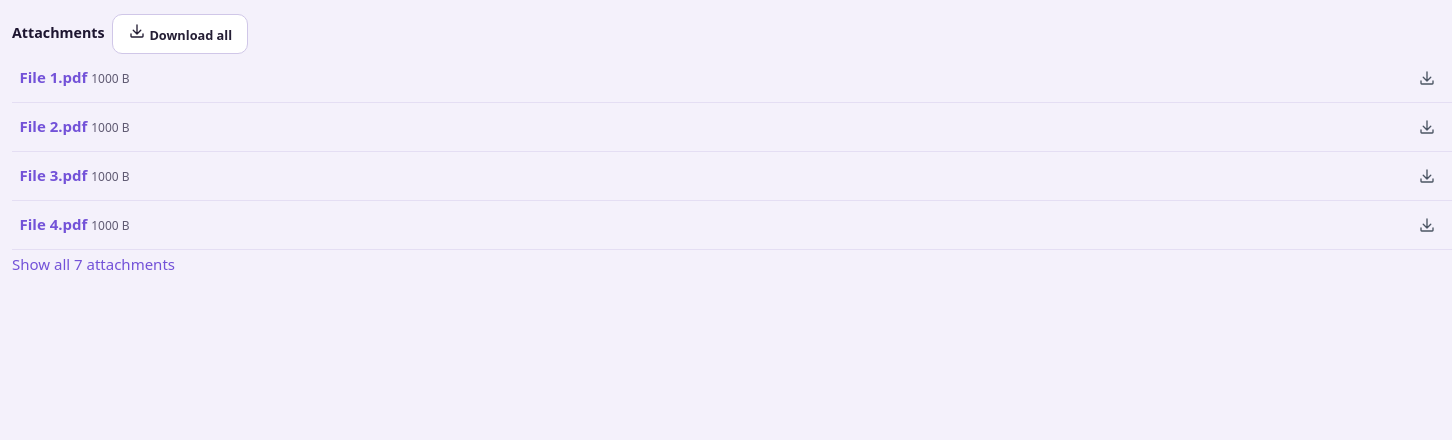
shows the first 4 of many attachments, and all of them on Show all
Expected: the text "File 1.pdf" is shown, left=20, top=67, right=87, bottom=87
Expected: the number of list items is 4, left=12, top=54, right=1451, bottom=102; left=12, top=102, right=1451, bottom=152; left=12, top=152, right=1451, bottom=200; left=12, top=200, right=1451, bottom=250
Click the button "Show all 7 attachments".
click(94, 265)  # box left=12, top=253, right=175, bottom=277
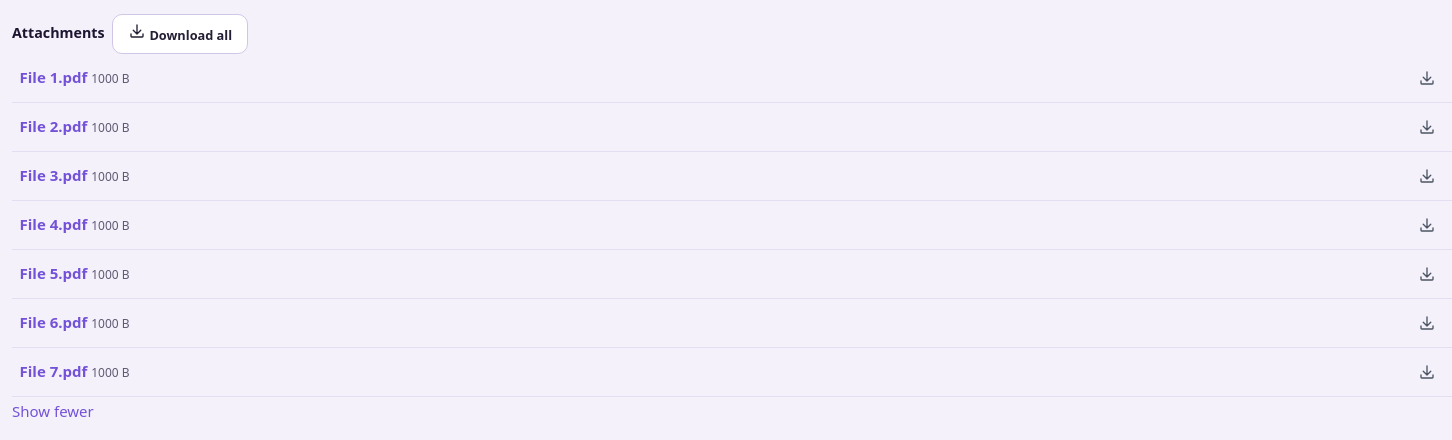
Result: the number of list items is 7
Click the button "Show fewer".
click(53, 412)  # box left=12, top=400, right=94, bottom=424
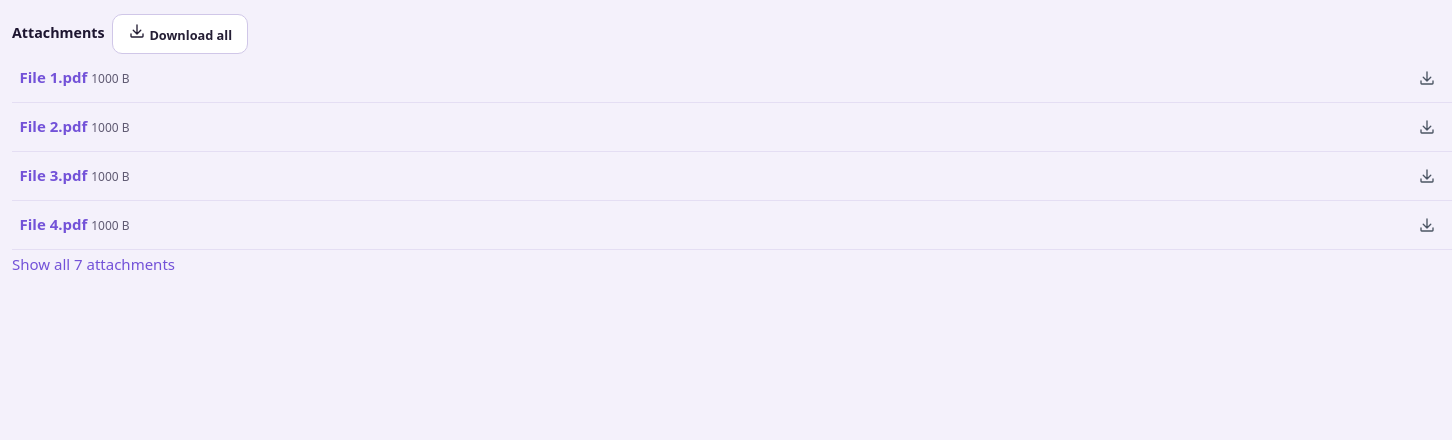
Result: the number of list items is 4 at left=12, top=54, right=1451, bottom=102; left=12, top=102, right=1451, bottom=152; left=12, top=152, right=1451, bottom=200; left=12, top=200, right=1451, bottom=250
